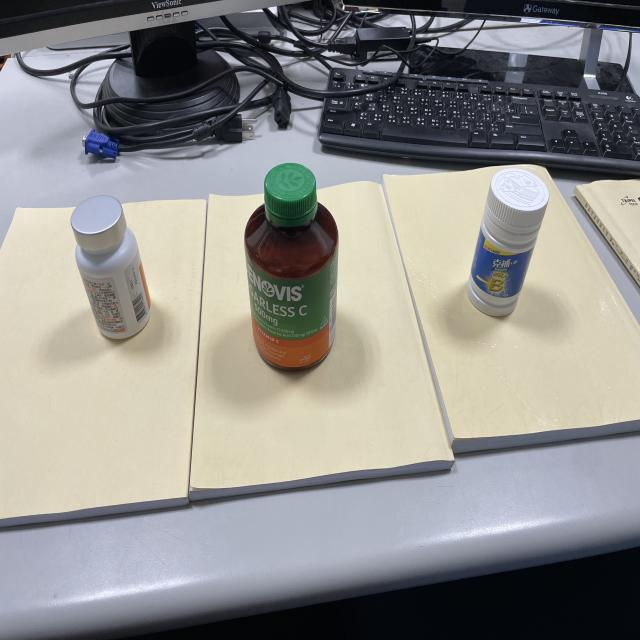Medicine-Jar: (235, 169, 345, 375), (62, 183, 154, 344), (469, 157, 548, 333)
